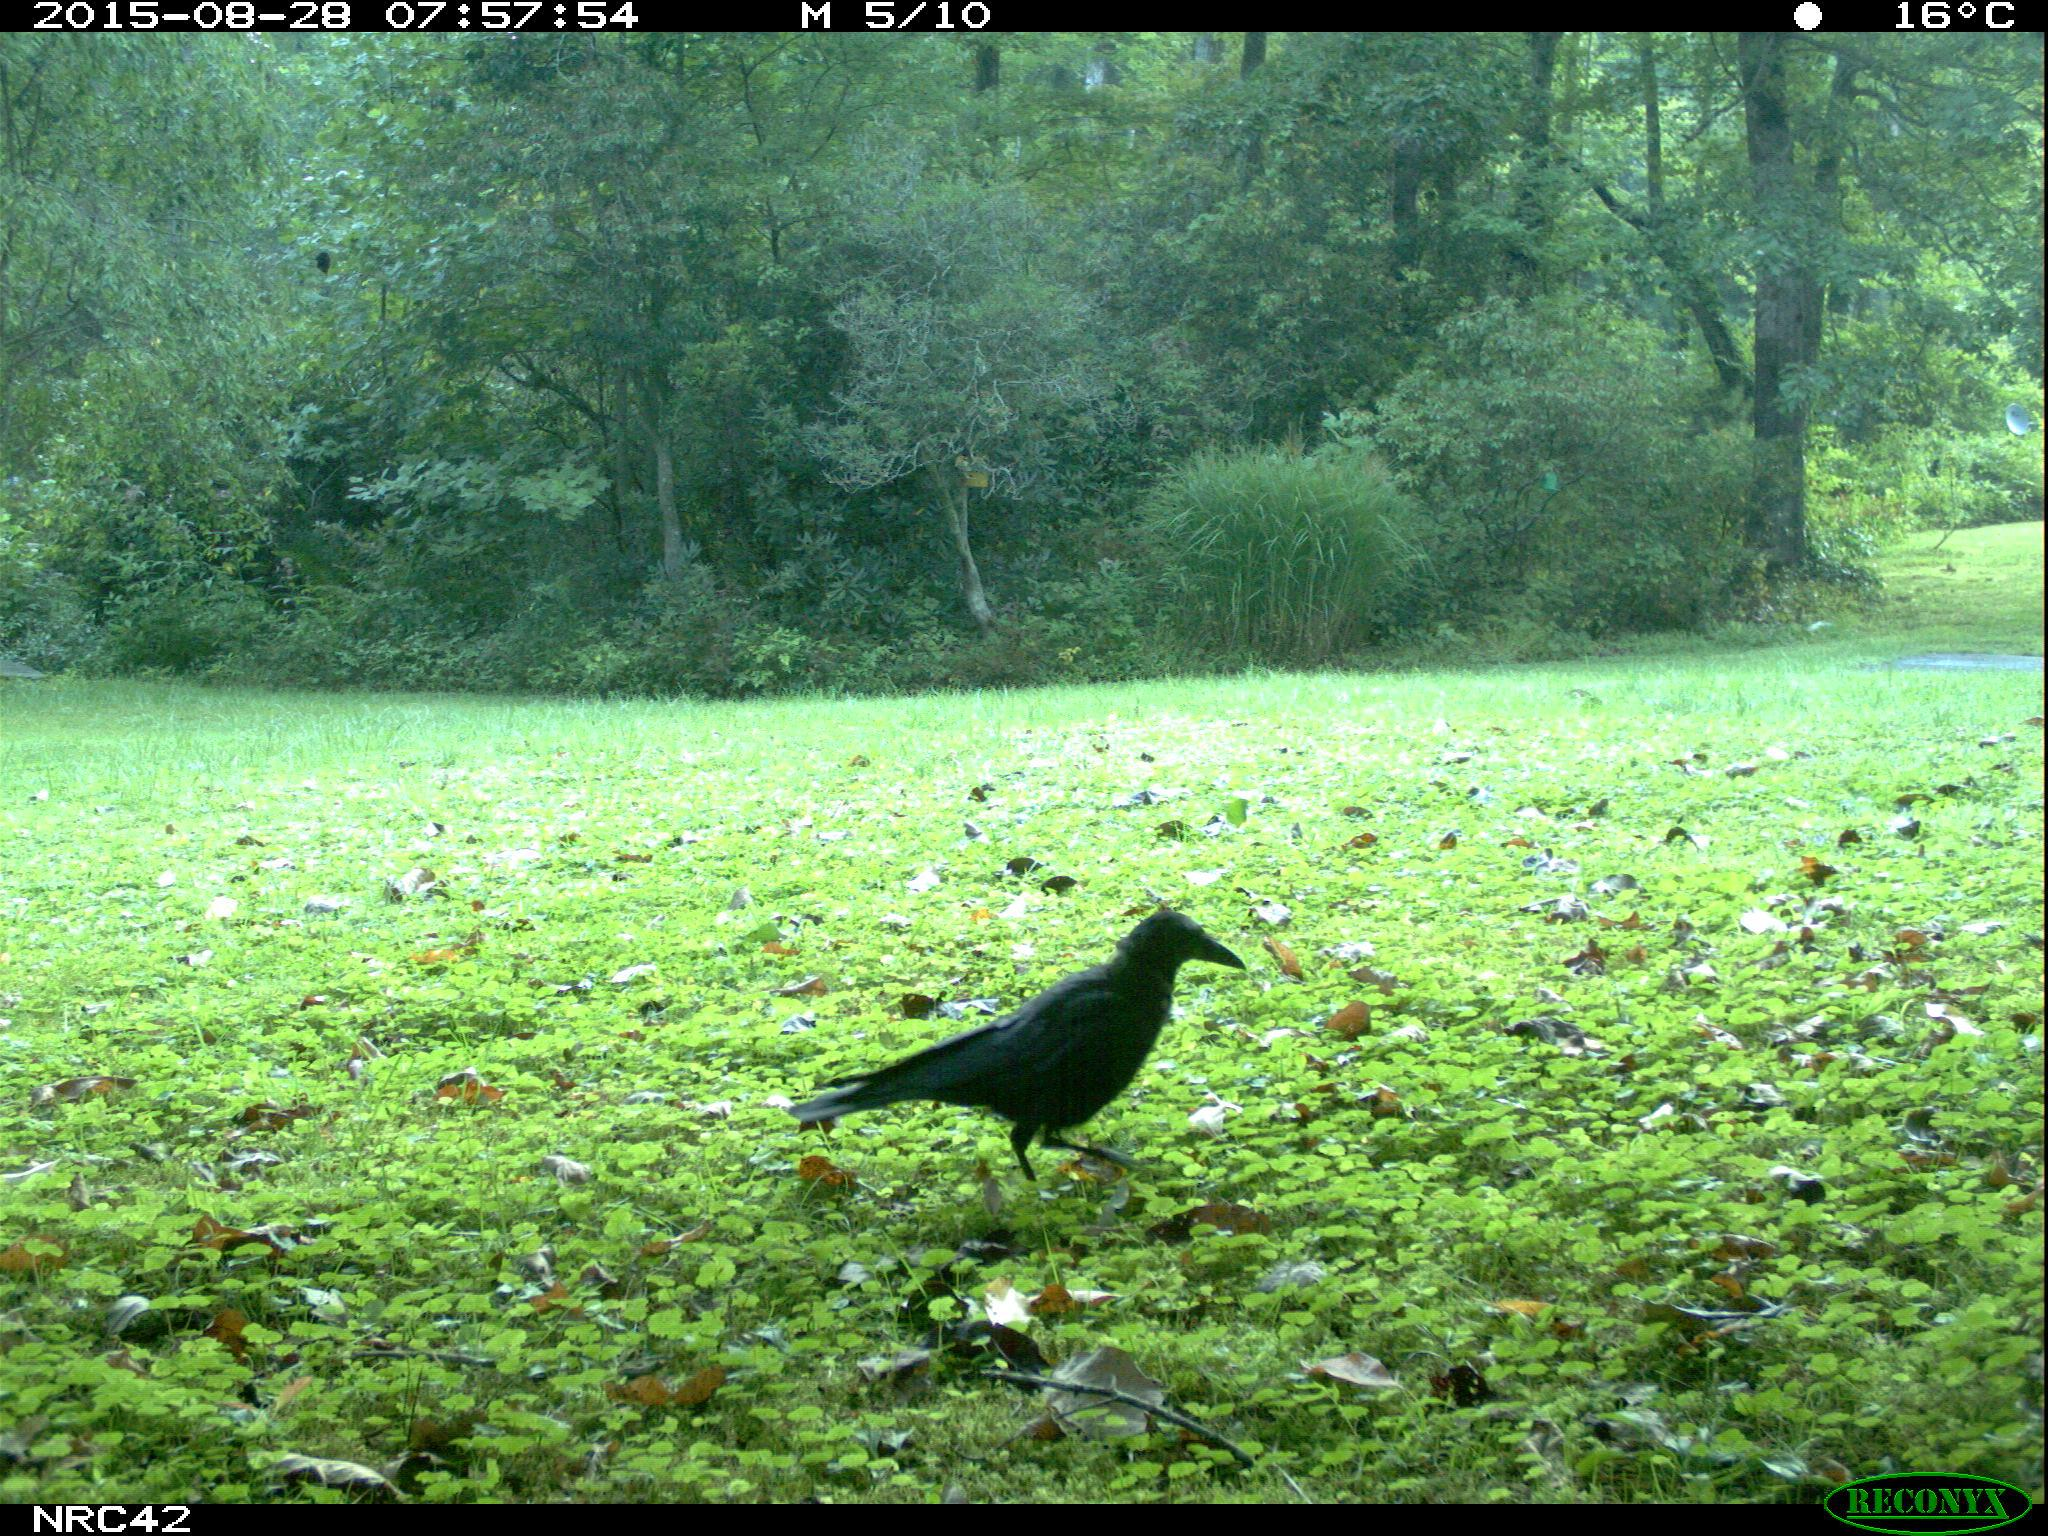Animal: (789, 904, 1247, 1183)
